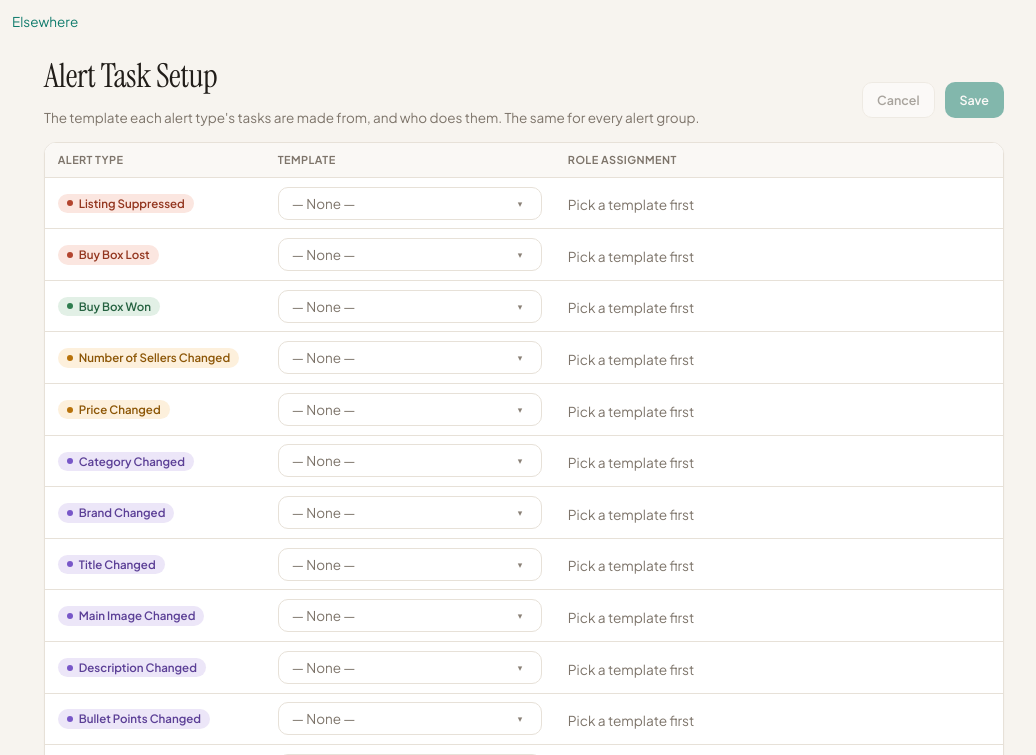
Test: ExclusivesAlertTasksPage › Save and Cancel stay off until something changes
Expected: the button "Save" is disabled, [944,82,1004,118]
Expected: the button "Cancel" is disabled, [862,82,935,118]
Click the button "— None — ▾" next to "Listing Suppressed". click: [324, 203]
box: [278,186,542,220]
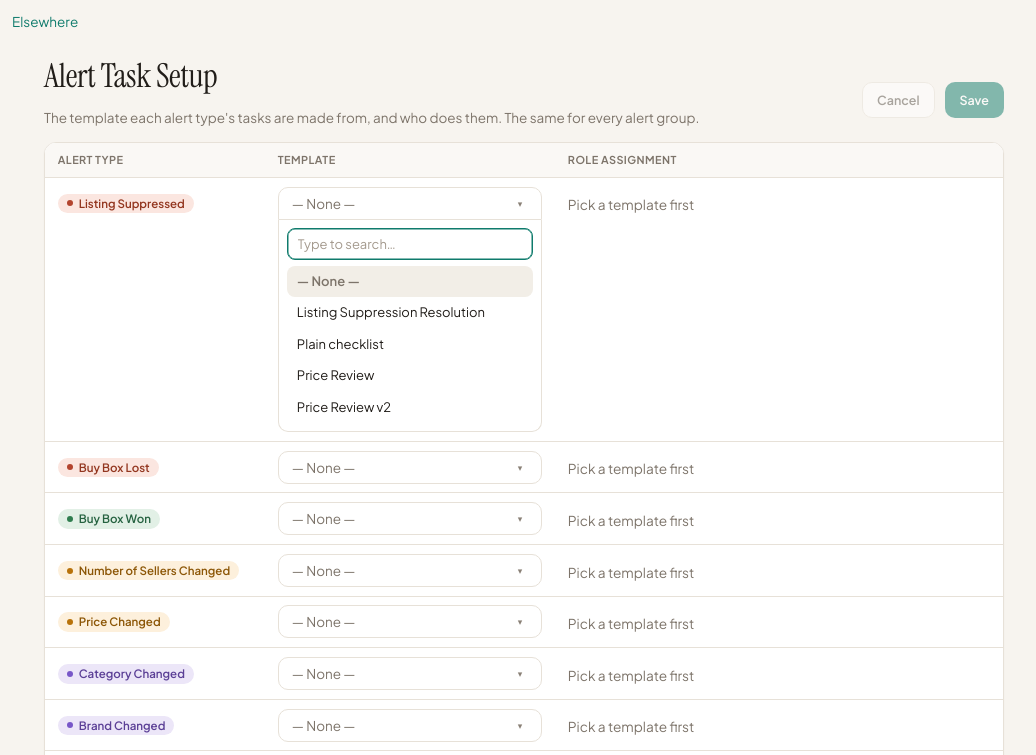
Click the option "Listing Suppression Resolution". click: [391, 312]
box: [297,304,485,320]
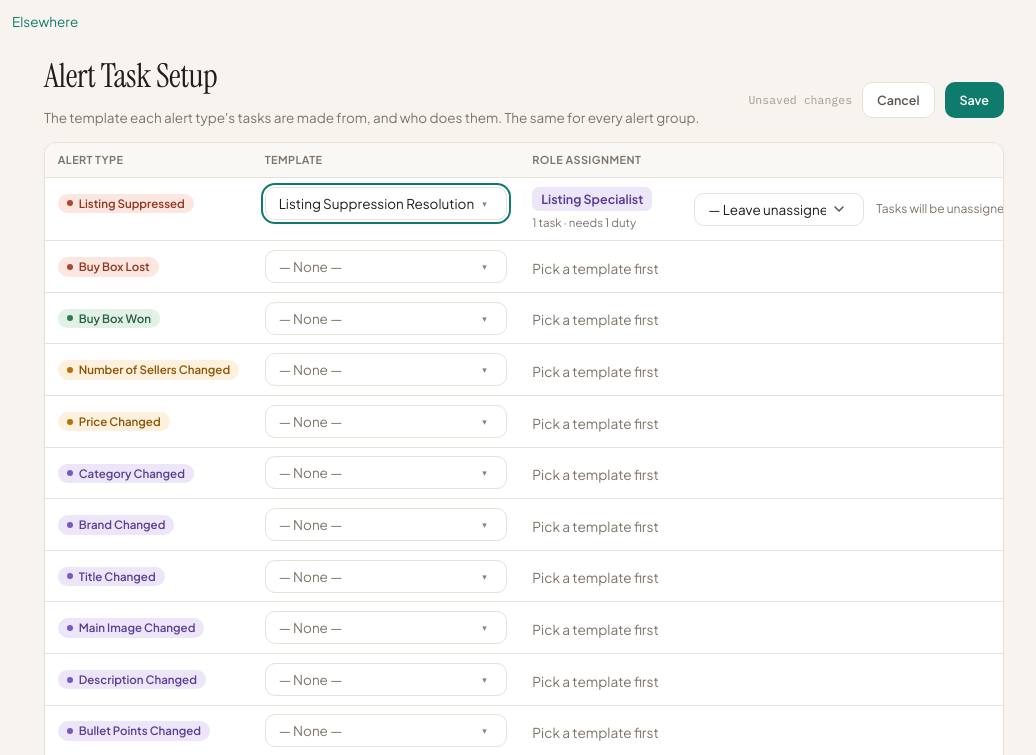
Expected: the button "Save" is enabled, [944,82,1004,118]
Expected: the button "Cancel" is enabled, [862,82,935,118]
Expected: the text "Unsaved changes" is shown, [748,91,852,109]
Click the button "Listing Suppression Resolution ▾". click: [386, 203]
box: [265,186,507,220]
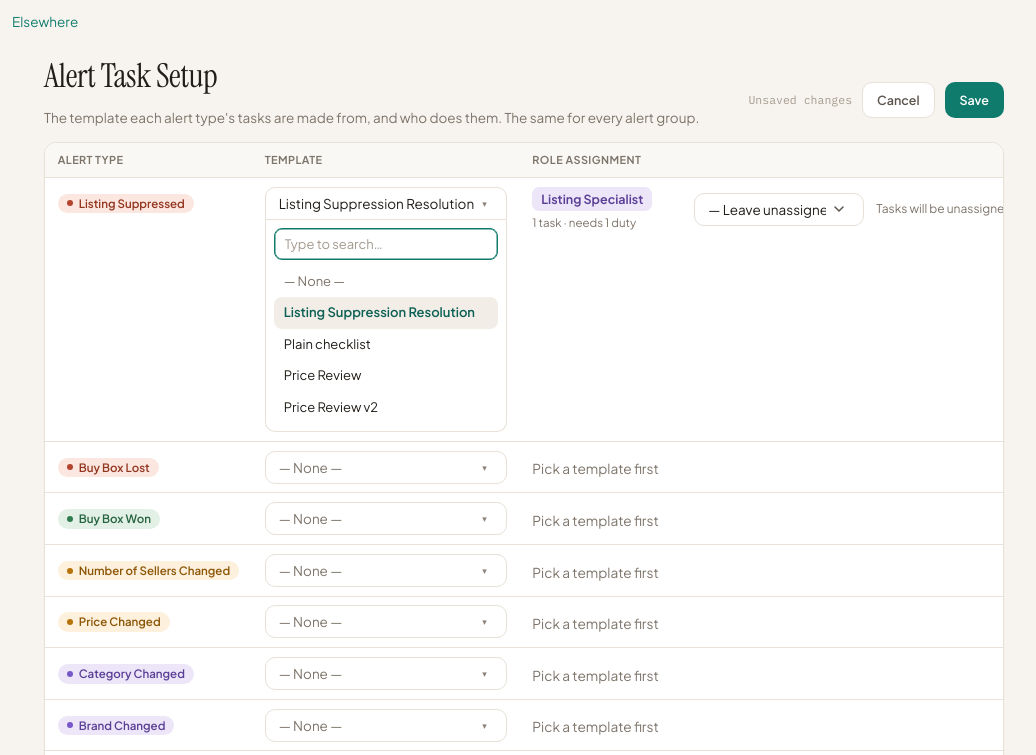
Click the option "— None —". click: [314, 280]
box: [284,272,345,288]
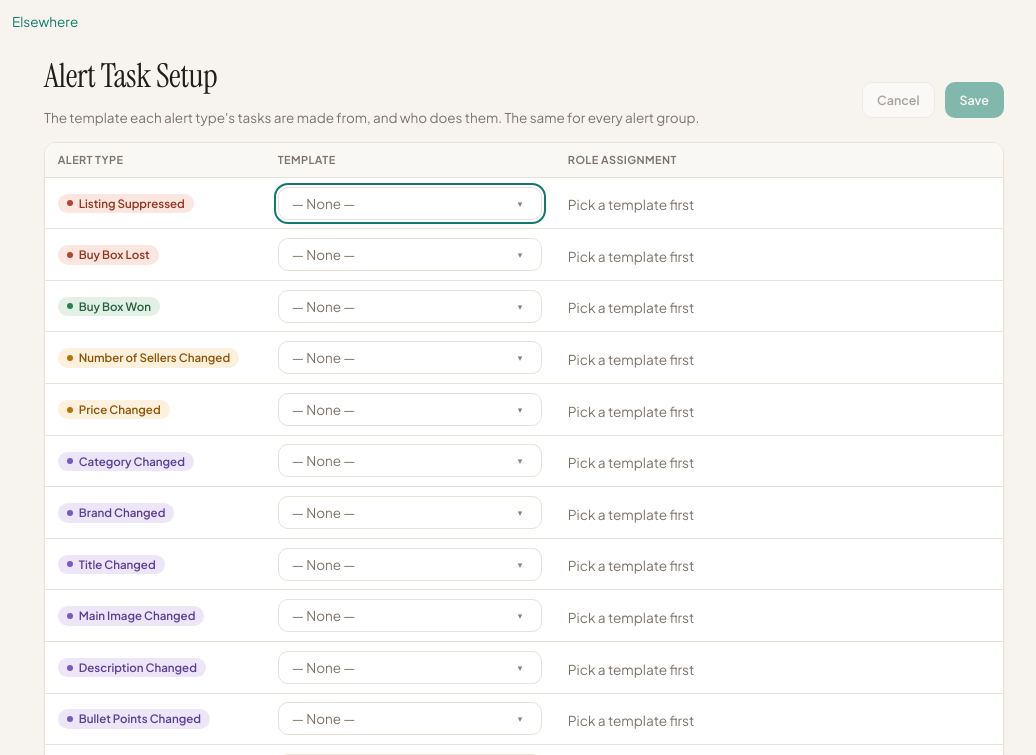
Expected: the button "Save" is disabled, [944,82,1004,118]
